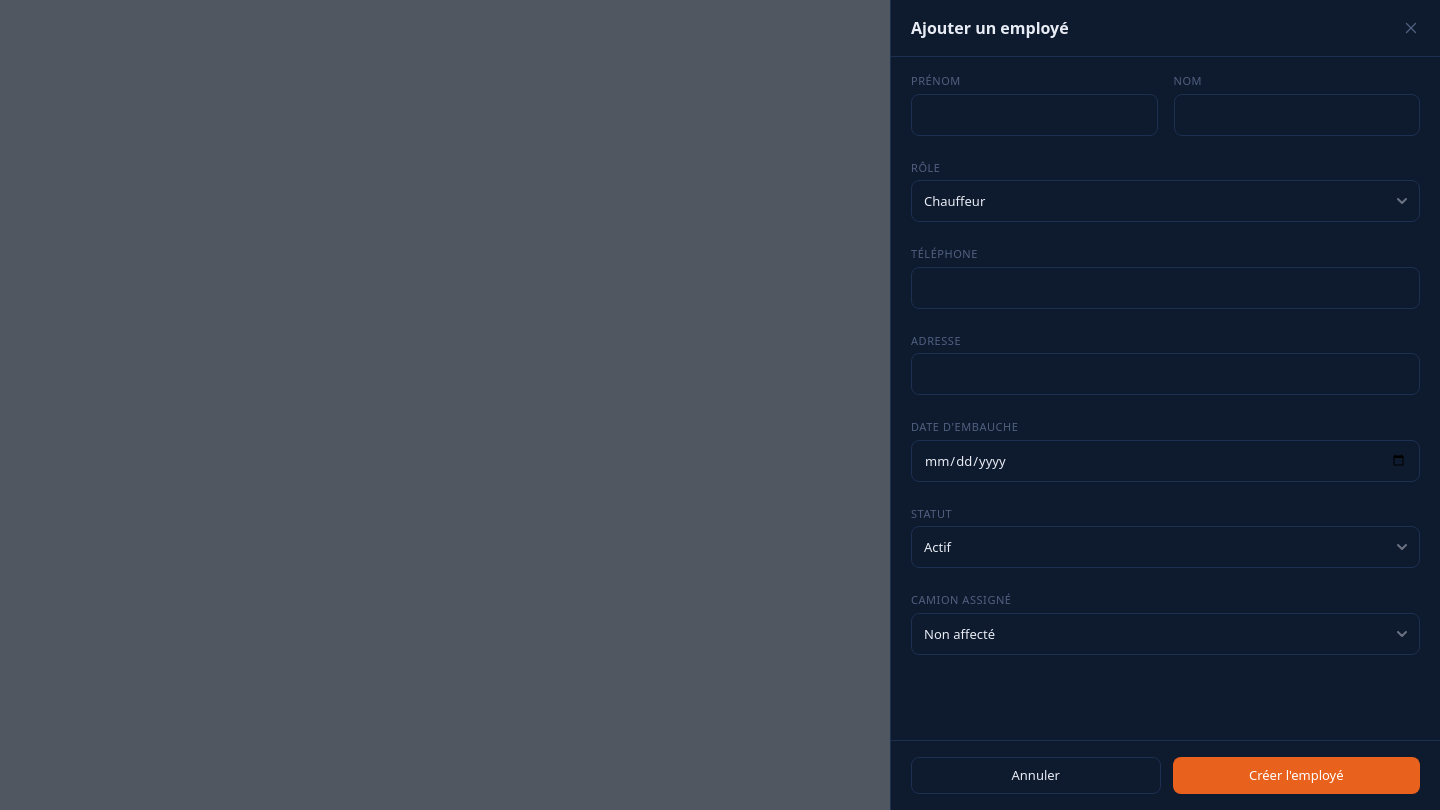
Test: EmployeeFormDrawer › add mode (no employee prop) › validation › shows required errors when submitting an empty form
What coordinates should you click on to do the following:
click the button "Créer l'employé"
I would click on:
 (1296, 775)
Its box is [1172,756,1420,794].
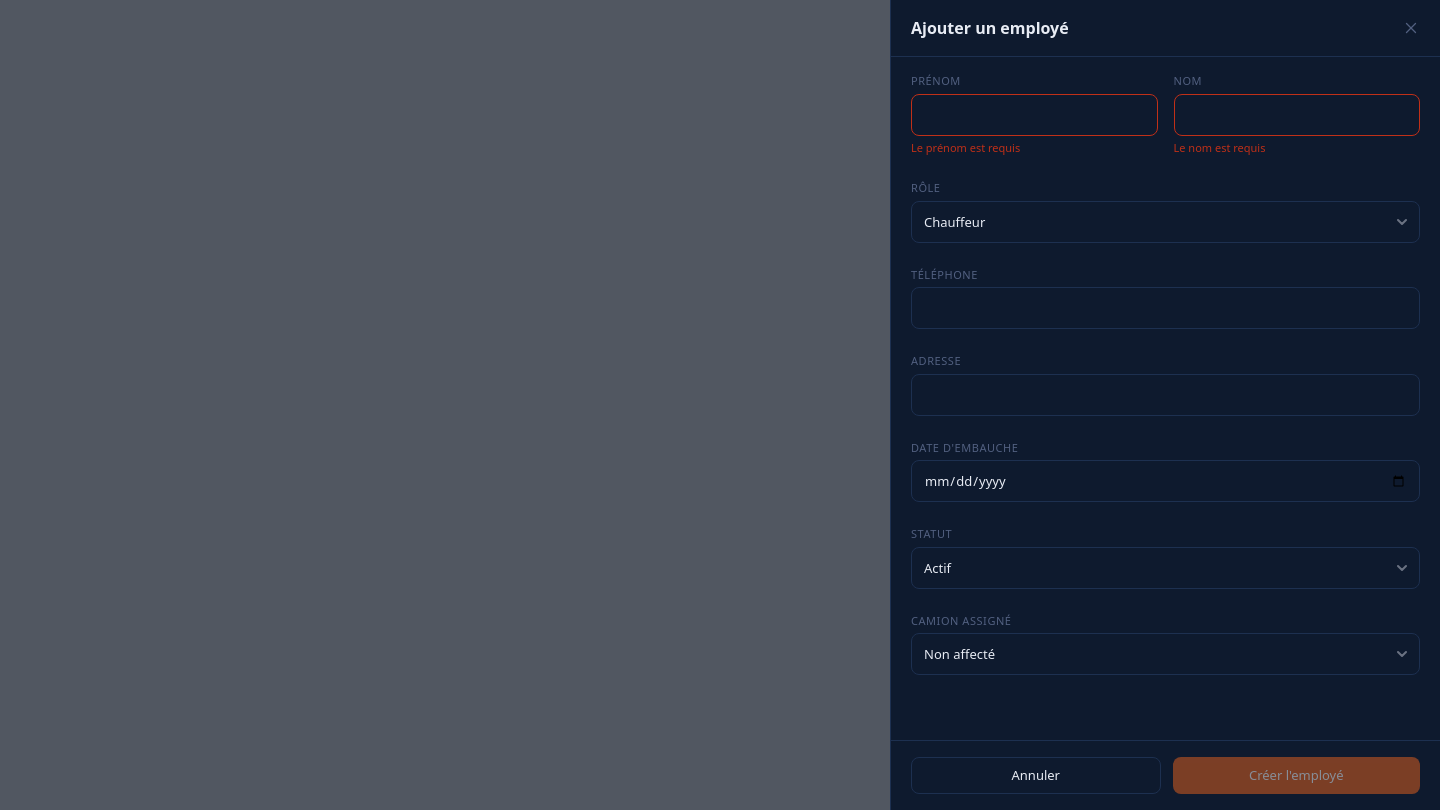
Check: the text "Le prénom est requis" is shown, box [911,140,1020,154]
Check: the text "Le nom est requis" is shown, box [1174,140,1265,154]
